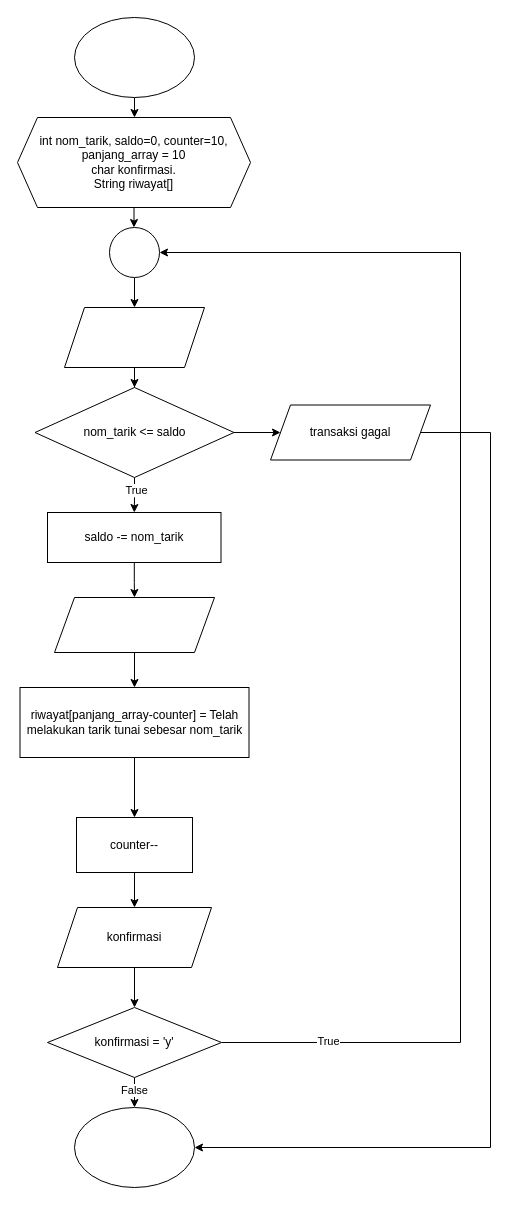
This 516x1205 diagram has some shape labels left out. The shapes that lost their labels are listed below. From the top down, each one's centre as x and y in pixels, then its label:
At point (134, 57): "Start".
At point (134, 337): "nom_tarik".
At point (134, 624): "saldo".
At point (134, 1147): "End".
